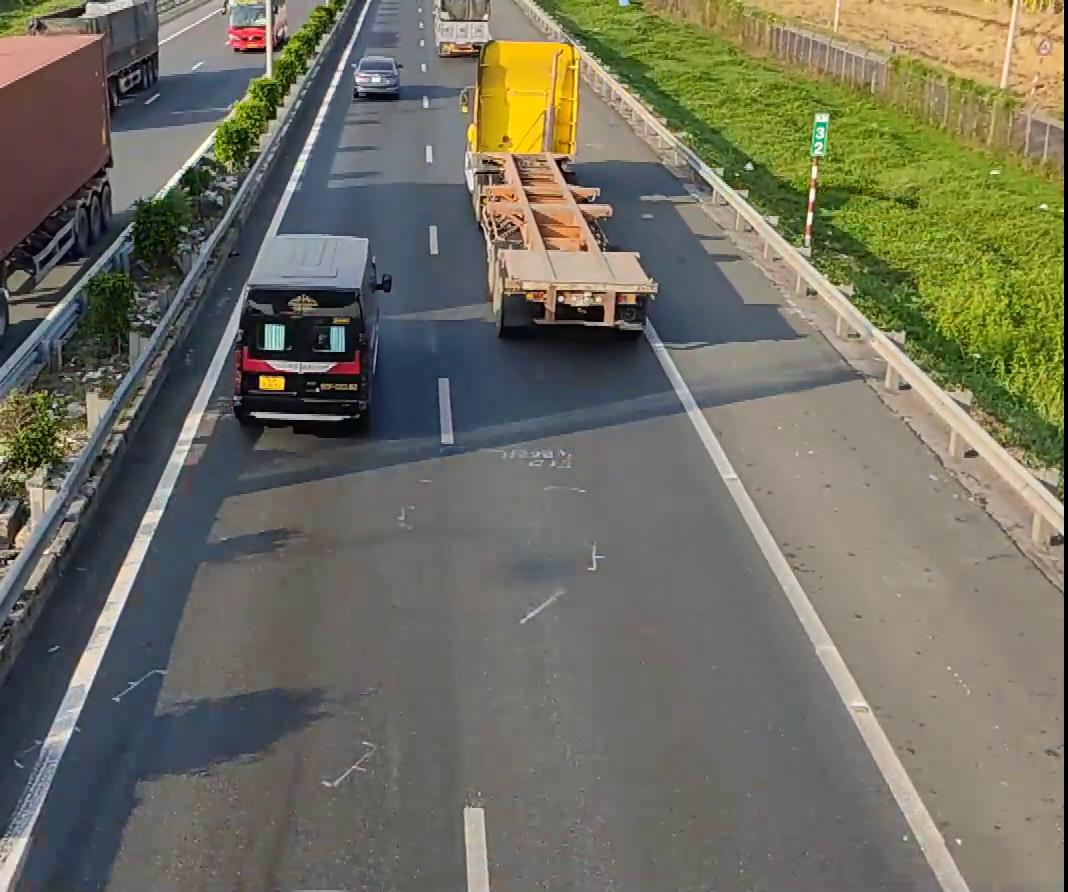car: (231, 231, 387, 426)
container: (463, 35, 658, 335), (0, 21, 134, 352)
